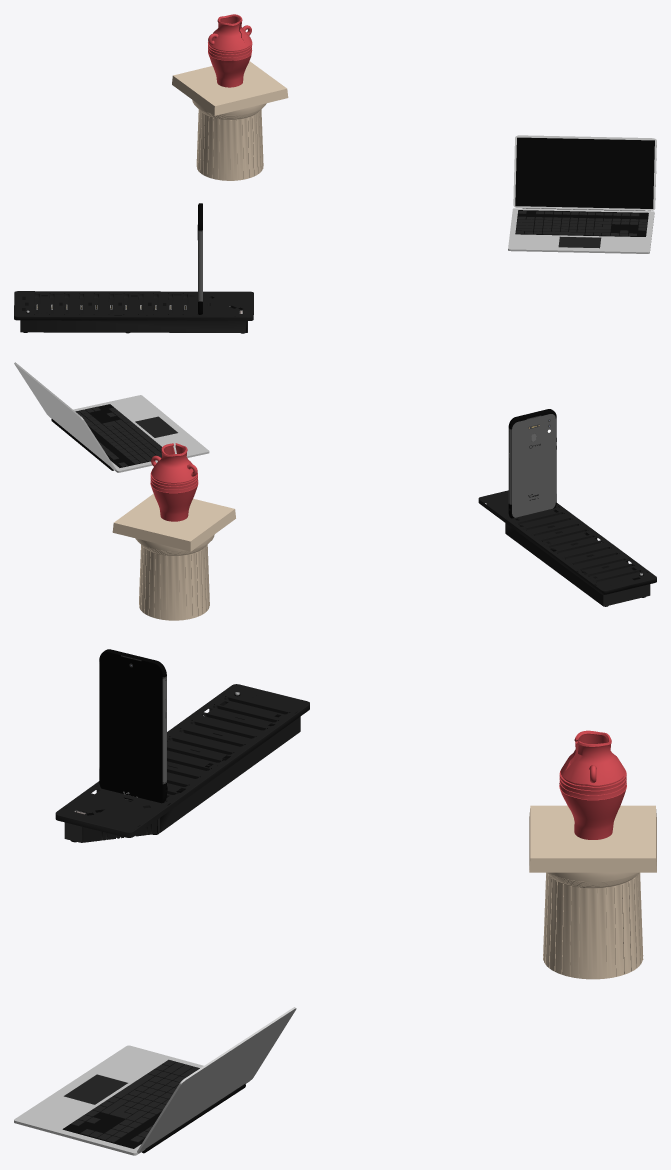
Rendered from laptop.glb.
3 views of the same model, one above another, from view 1: azimuth 30°, elevation 25°; view 2: azimuth 150°, elevation 25°; view 3: azimuth 270°, elevation 25° (orthographic). The views are drawn at different scales.
Parts seen in each view (by area): view 1: Torus.001, Plane.001, Cube.001, Plane, mainBody; view 2: Torus.001, Cube.001, Plane, mainBody, Plane.001; view 3: Torus.001, Cube.001, Plane, mainBody, Plane.001.
Part boxes in pixels (x1,y1,x2,y2): Torus.001: [172, 14, 288, 180]; Plane.001: [513, 135, 656, 210]; Cube.001: [14, 291, 253, 332]; Plane: [508, 208, 654, 253]; mainBody: [198, 203, 202, 314]; Torus.001: [112, 443, 235, 620]; Cube.001: [478, 490, 656, 606]; Plane: [73, 395, 209, 472]; mainBody: [508, 409, 556, 519]; Plane.001: [14, 362, 116, 470]; Torus.001: [529, 730, 656, 979]; Cube.001: [55, 684, 309, 842]; Plane: [14, 1045, 203, 1155]; mainBody: [99, 649, 167, 803]; Plane.001: [137, 1007, 296, 1153].
Bounding box in the file's own units: 19.76 × 4.53 × 11.81.
